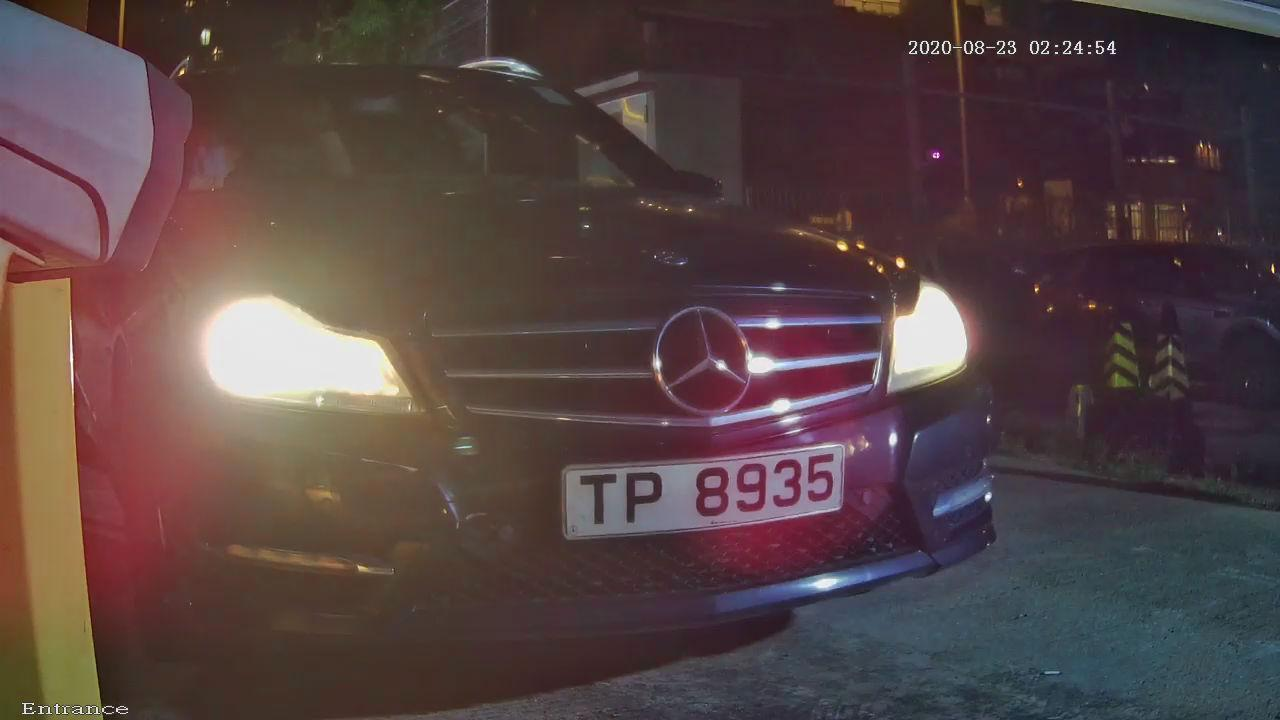Car: (1, 36, 1115, 688)
License Plate: (492, 405, 895, 565)
